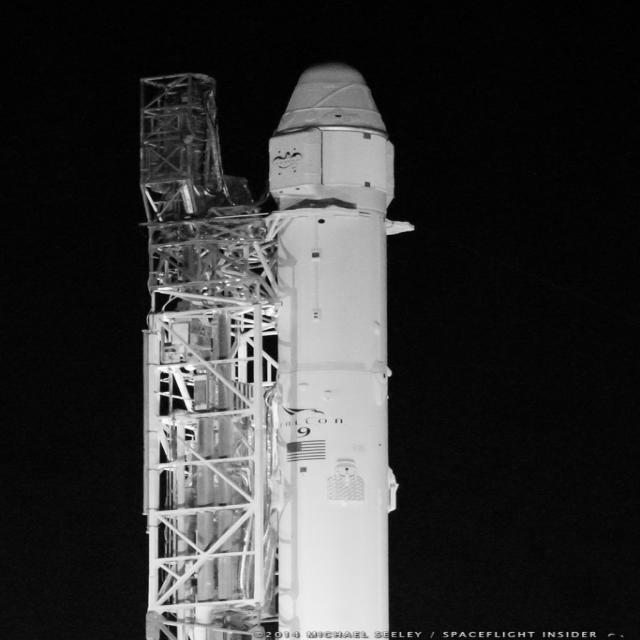missile: (258, 65, 410, 636)
